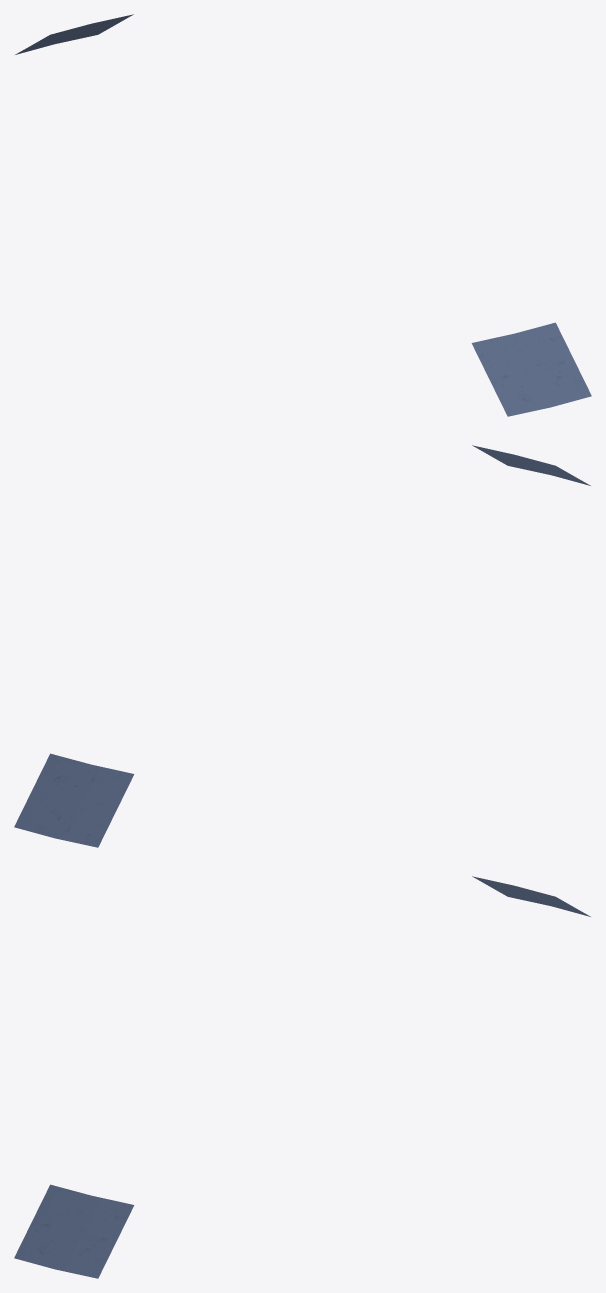
File: CentralArea_GroundTopStairs.fbx
3 views of the same model, one above another, from view 1: azimuth 30°, elevation 25°; view 2: azimuth 150°, elevation 25°; view 3: azimuth 330°, elevation 25° (orthographic).
Visible parts, largest first — view 1: CentralArea_GroundTopStairs; view 2: CentralArea_GroundTopStairs; view 3: CentralArea_GroundTopStairs.
Part boxes in pixels (x1,y1,x2,y2): CentralArea_GroundTopStairs: [15, 14, 591, 416]; CentralArea_GroundTopStairs: [14, 445, 590, 847]; CentralArea_GroundTopStairs: [14, 876, 590, 1278].
Size of the model in its own units: 3.35 by 1.79 by 34.18.
